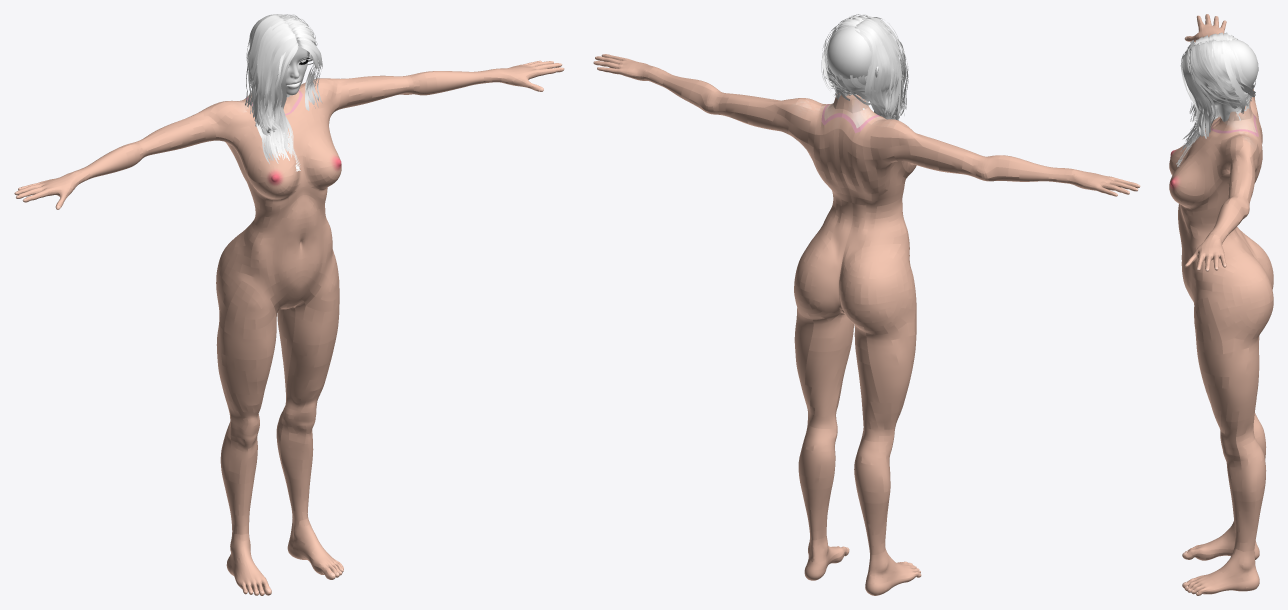
The model's file is girl.glb.
3 renders of one model, left to right at view 1: azimuth 30°, elevation 25°; view 2: azimuth 150°, elevation 25°; view 3: azimuth 270°, elevation 25°, orthographic. The views are drawn at different scales.
Visible parts, largest first — view 1: Female.001, Hair; view 2: Female.001, Hair; view 3: Female.001, Hair.
Part boxes in pixels (x1,y1,x2,y2): Female.001: [14, 14, 564, 595]; Hair: [245, 14, 322, 171]; Female.001: [593, 25, 1140, 595]; Hair: [821, 14, 908, 120]; Female.001: [1169, 14, 1273, 595]; Hair: [1176, 32, 1255, 166].
Bounding box in the file's own units: 70.84 × 69.31 × 12.2.
Materials: 14 (1 with a texture image).
